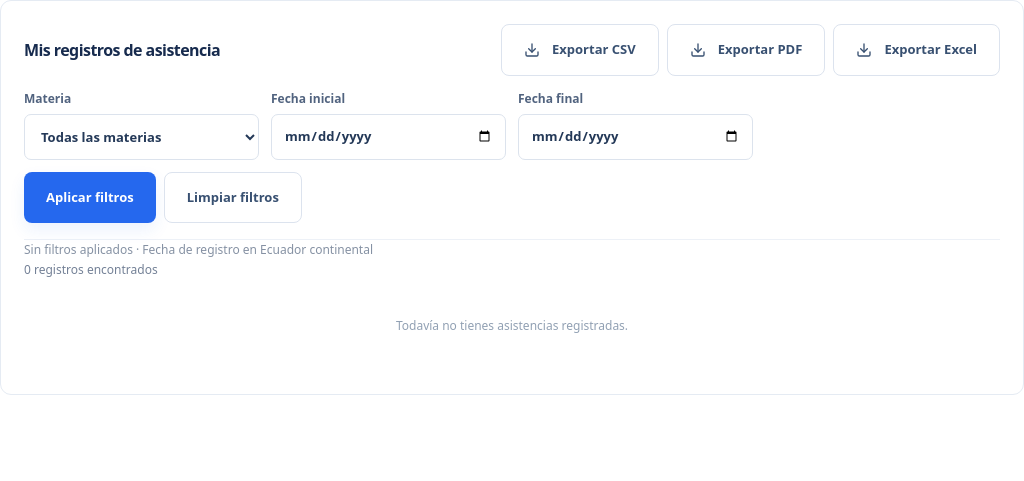
Test case: shows a PDF error and allows a retry on an empty history
Check: the text "0 registros encontrados" is shown, box [24,261,158,278]
Click the button "Exportar PDF".
click(746, 50)  # box [667,24,825,76]
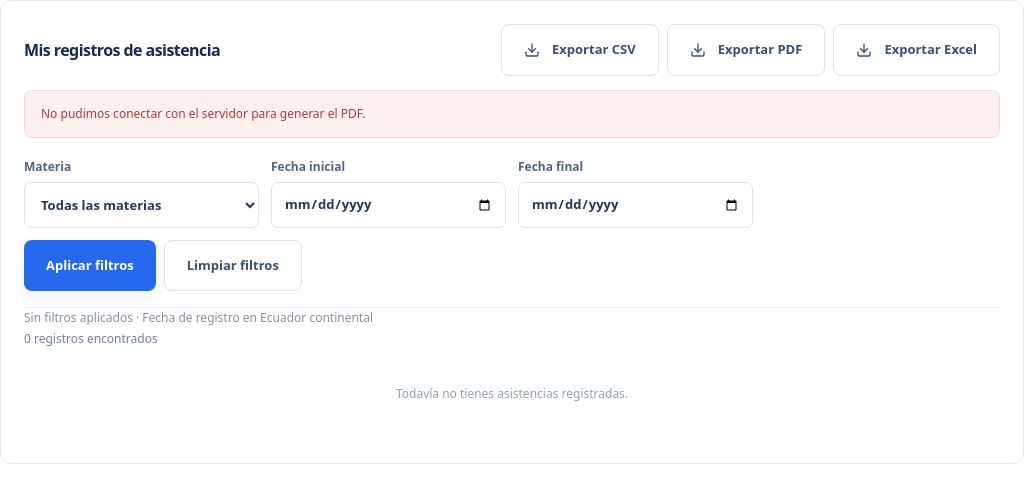
Check: the message "No pudimos conectar con el servidor para generar el PDF." is shown, box [24,90,1000,138]
